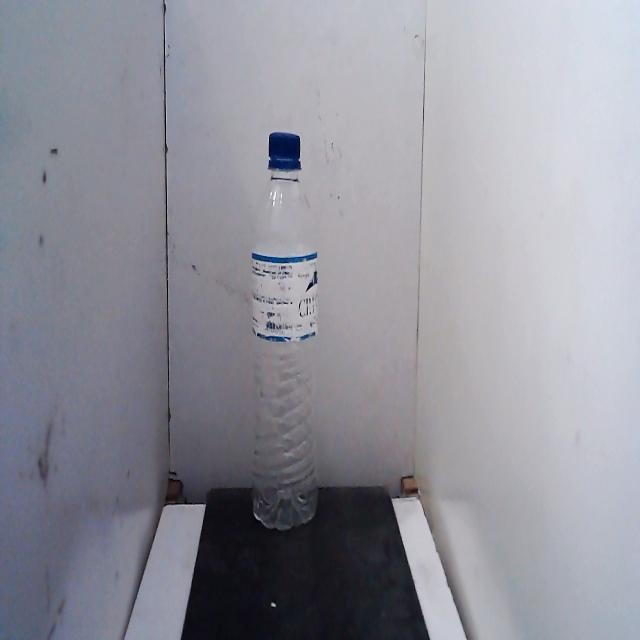plastic: (241, 120, 335, 538)
